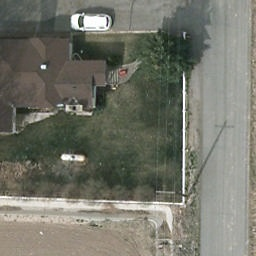car: (69, 11, 113, 31)
